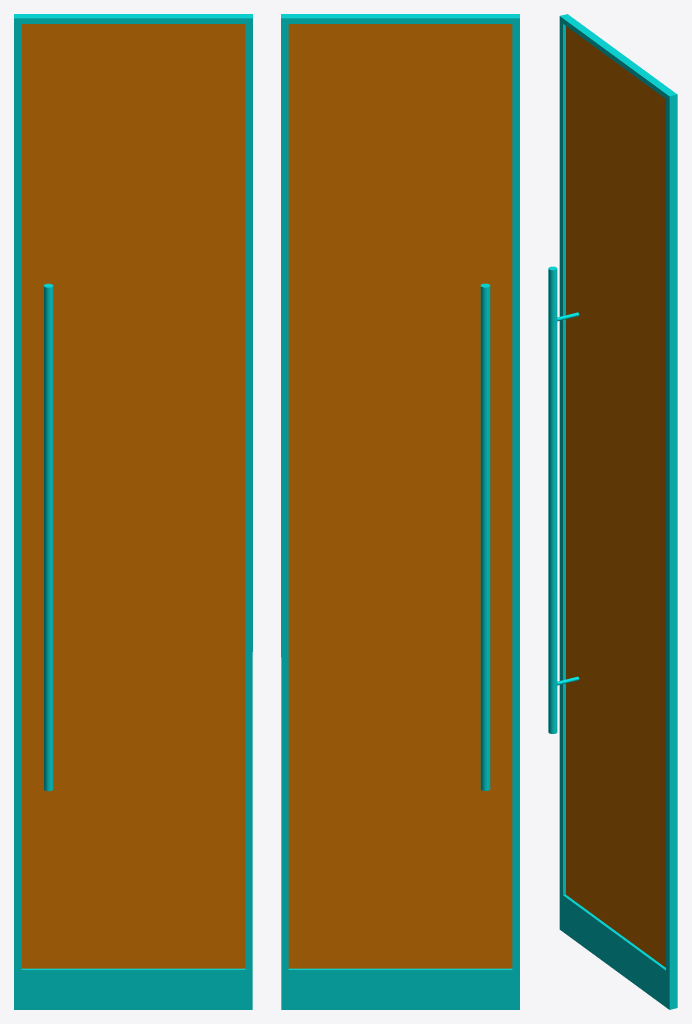
Rendered from FrontDoor9.fbx.
3 views of the same model, side by side, from view 1: azimuth 30°, elevation 25°; view 2: azimuth 210°, elevation 25°; view 3: azimuth 330°, elevation 25° (orthographic). The views are drawn at different scales.
Visible parts, largest first — view 1: FrontDoor9; view 2: FrontDoor9; view 3: FrontDoor9.
Boxes of the visible parts, x1,y1,x2,y2 form: FrontDoor9: [14, 14, 252, 1009]; FrontDoor9: [281, 14, 519, 1009]; FrontDoor9: [548, 14, 677, 1009].
Size of the model in its own units: 50.45 by 261 by 33.3.
